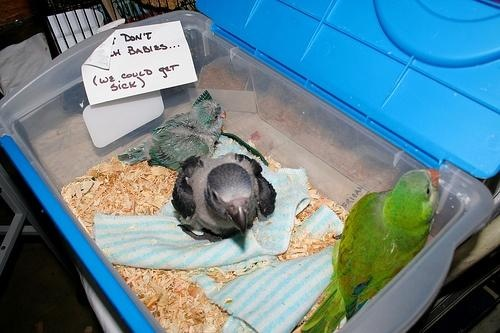bird: (300, 169, 442, 333), (174, 150, 277, 243), (119, 100, 227, 170)
